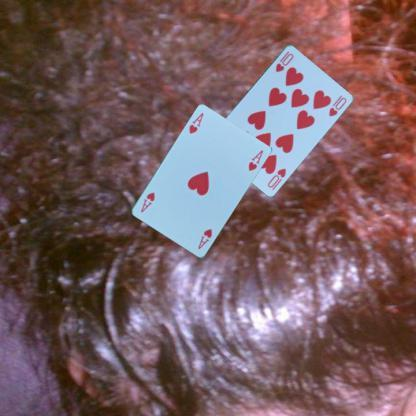10h: (272, 48, 294, 74), (265, 165, 287, 189)
Ah: (186, 110, 206, 136), (195, 226, 213, 251)
